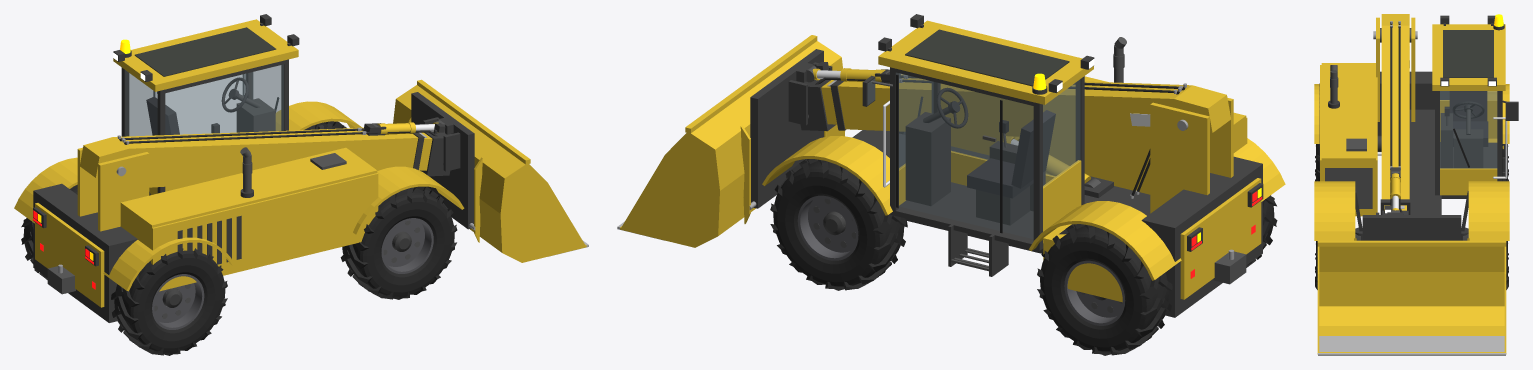
The model's file is telehandler.glb.
3 views of the same model, side by side, from view 1: azimuth 30°, elevation 25°; view 2: azimuth 150°, elevation 25°; view 3: azimuth 270°, elevation 25° (orthographic). The views are drawn at different scales.
Visible parts, largest first — view 1: chassis, cab, carriage_tilt, boom_tilt, wheel_front_right_spin, wheel_rear_right_spin, wheel_front_right_steer, wheel_rear_right_steer, wheel_rear_left_steer, boom_stage_slide, wheel_front_left_steer, wheel_rear_left_spin; view 2: cab, chassis, carriage_tilt, boom_tilt, wheel_front_left_spin, wheel_rear_left_spin, wheel_rear_left_steer, wheel_front_left_steer, boom_stage_slide, wheel_rear_right_steer, wheel_rear_right_spin; view 3: carriage_tilt, chassis, cab, boom_tilt, wheel_front_left_steer, wheel_front_right_steer, wheel_rear_left_steer, wheel_rear_right_steer, boom_stage_slide, carriage_tilt_cylinder_rotate.
Boxes of the visible parts, x1,y1,x2,y2 form: chassis: (33, 135, 378, 322); cab: (113, 14, 299, 194); carriage_tilt: (393, 79, 588, 262); boom_tilt: (80, 127, 424, 187); wheel_front_right_spin: (340, 186, 457, 299); wheel_rear_right_spin: (111, 248, 227, 355); wheel_front_right_steer: (353, 166, 464, 234); wheel_rear_right_steer: (103, 237, 234, 291); wheel_rear_left_steer: (14, 157, 77, 223); boom_stage_slide: (357, 123, 450, 176); wheel_front_left_steer: (276, 101, 361, 130); wheel_rear_left_spin: (21, 184, 77, 279); cab: (862, 14, 1094, 250); chassis: (852, 37, 1263, 317); carriage_tilt: (617, 35, 844, 247); boom_tilt: (830, 74, 1230, 146); wheel_front_left_spin: (770, 159, 907, 290); wheel_rear_left_spin: (1037, 224, 1172, 355); wheel_rear_left_steer: (1029, 201, 1181, 280); wheel_front_left_steer: (762, 136, 892, 215); boom_stage_slide: (800, 62, 908, 131); wheel_rear_right_steer: (1233, 138, 1285, 201); wheel_rear_right_spin: (1246, 195, 1277, 267); carriage_tilt: (1317, 212, 1506, 355); chassis: (1319, 17, 1506, 216); cab: (1432, 14, 1518, 198); boom_tilt: (1380, 14, 1411, 214); wheel_front_left_steer: (1461, 181, 1509, 240); wheel_front_right_steer: (1314, 181, 1362, 240); wheel_rear_left_steer: (1487, 84, 1509, 143); wheel_rear_right_steer: (1314, 84, 1319, 143); boom_stage_slide: (1382, 166, 1408, 214); carriage_tilt_cylinder_rotate: (1390, 171, 1400, 199).
Size of the model in its own units: 5.86 by 2.64 by 2.49.
Materials: 19 (19 with a texture image).
